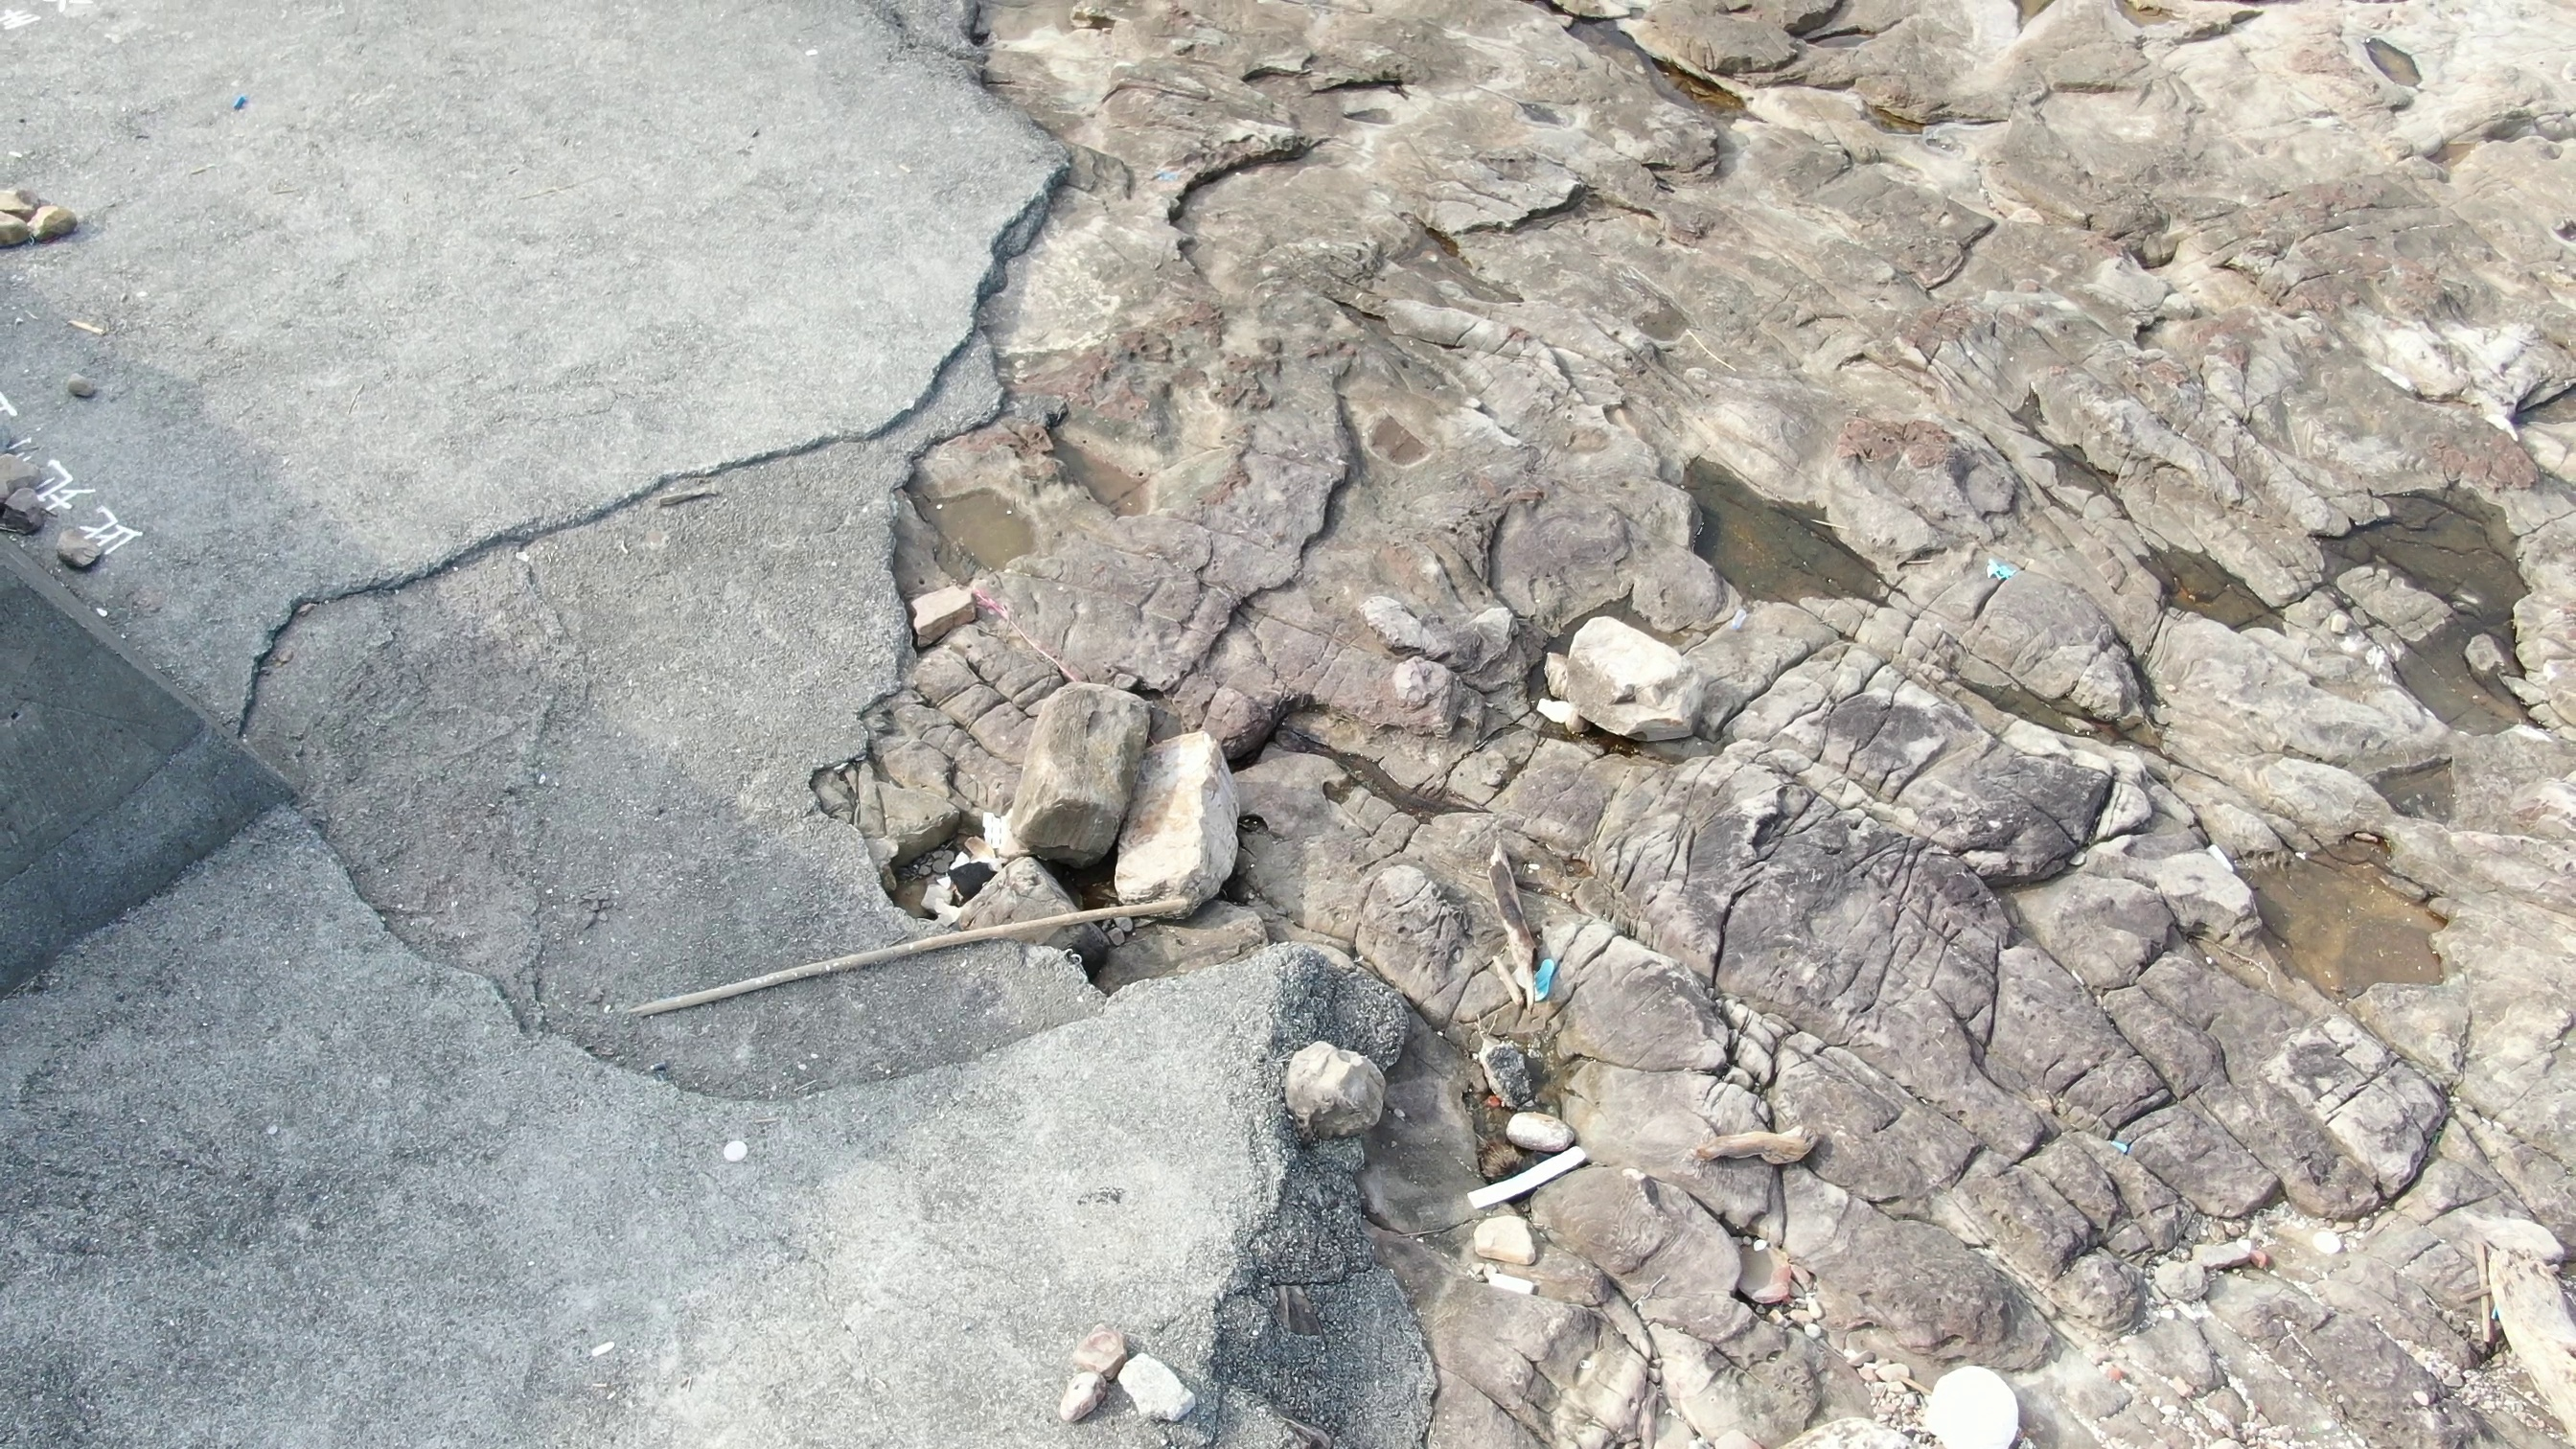garbage: (1976, 547, 2040, 598), (1523, 945, 1571, 1008)
